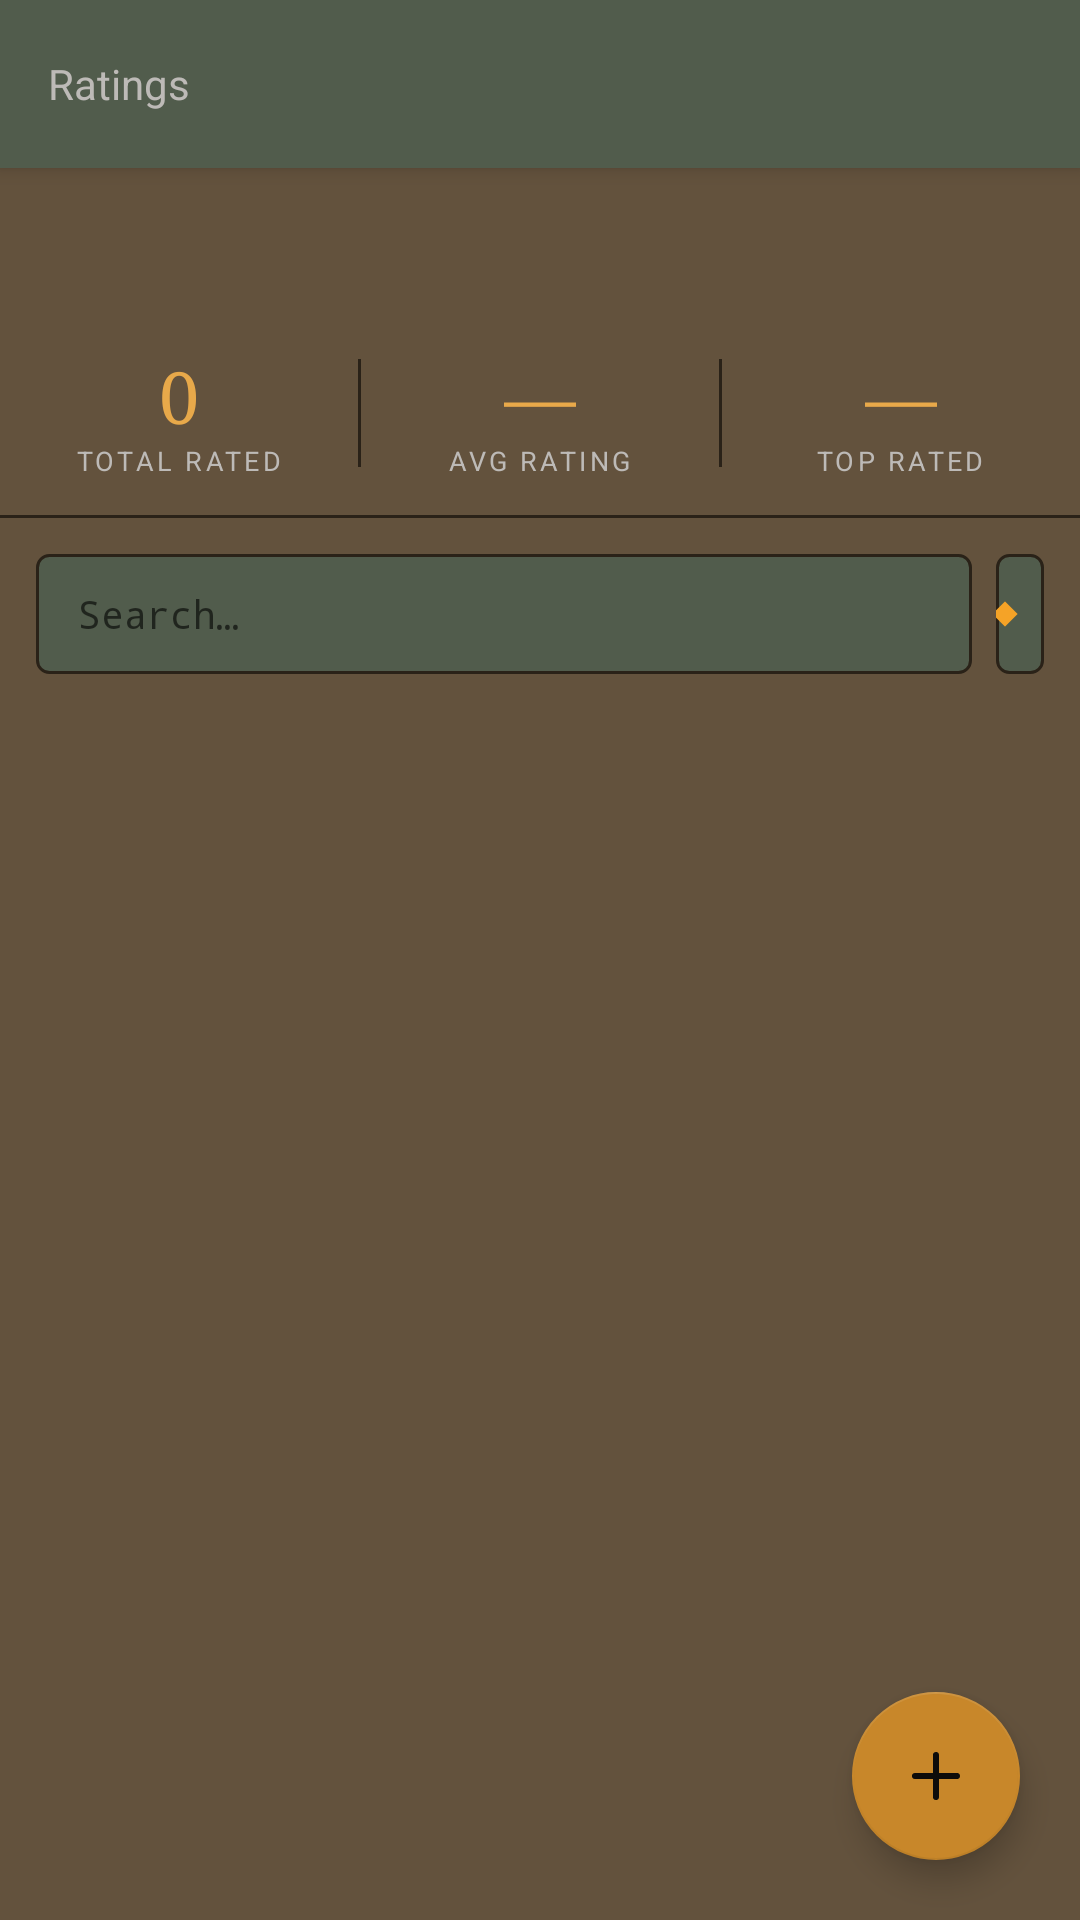

Where icons sit on this 1080px×1920px app screen, as rect(x1, y1, x2, y2):
Add Rating: rect(852, 1692, 1020, 1860)
